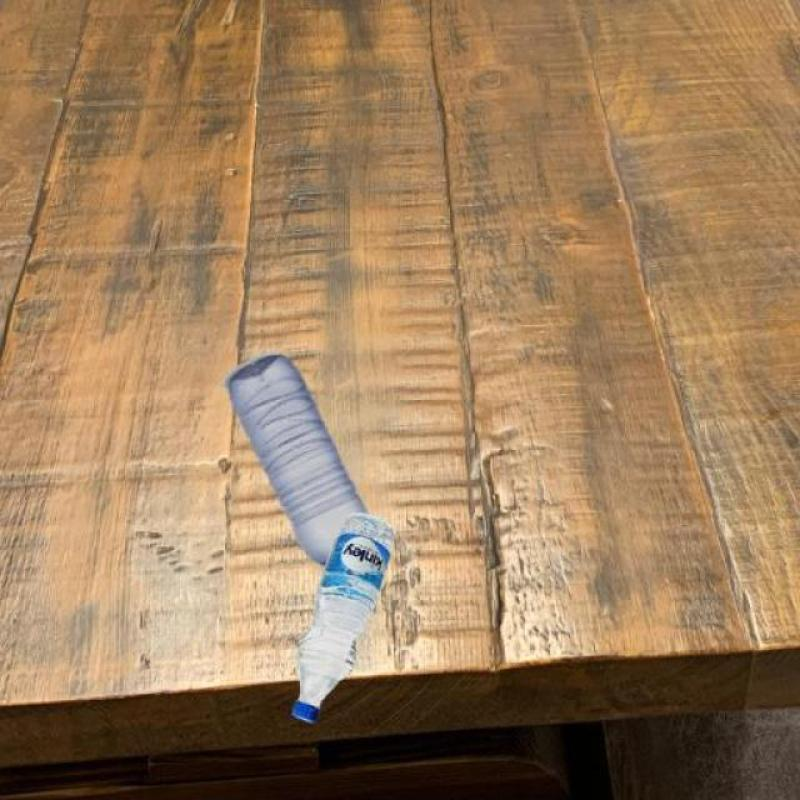botella: (228, 352, 384, 582), (291, 516, 397, 733)
